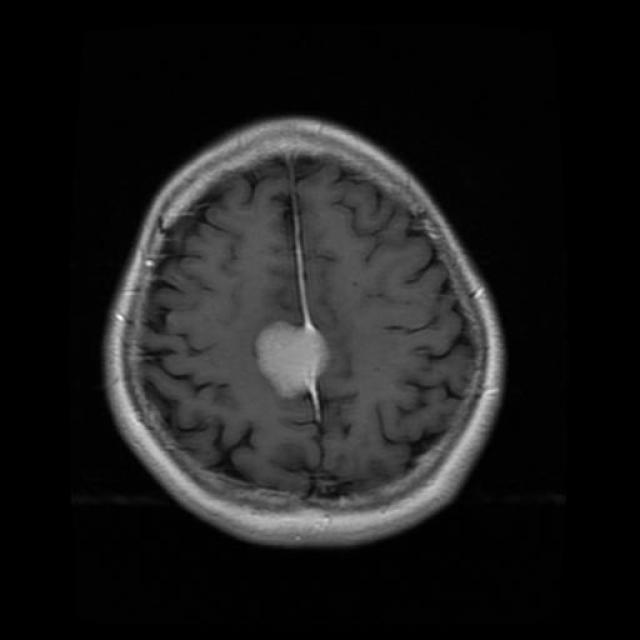meningioma: (253, 306, 339, 400)
